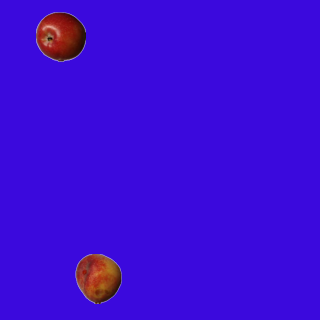Apple Braeburn: (35, 11, 85, 61)
Peach: (73, 253, 123, 303)
